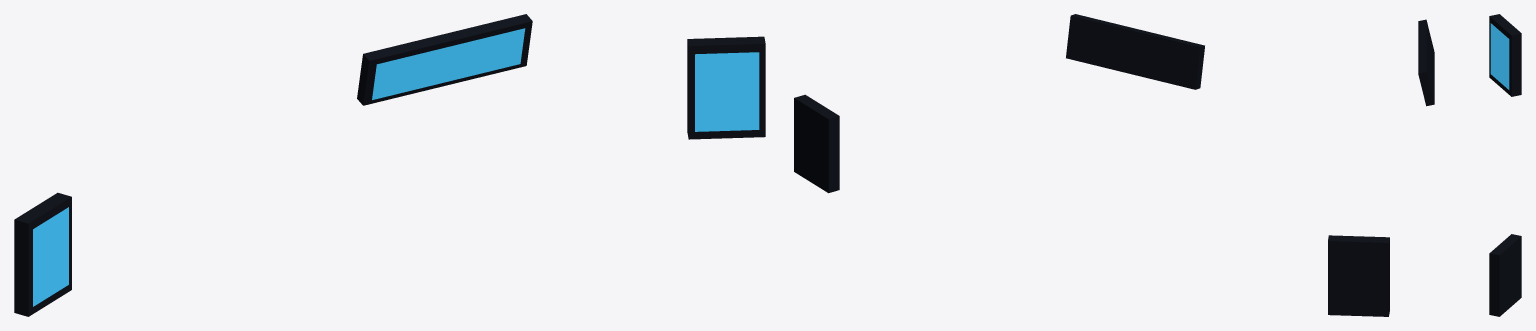
File: cockpit_camera_monitors.glb
The picture shows the model from 3 angles, left to right: view 1: azimuth 30°, elevation 25°; view 2: azimuth 150°, elevation 25°; view 3: azimuth 270°, elevation 25°; orthographic projection. The views are drawn at different scales.
Visible parts, largest first — view 1: Digital_Cameras_Monitors_Assembly; view 2: Digital_Cameras_Monitors_Assembly; view 3: Digital_Cameras_Monitors_Assembly.
Part boxes in pixels (x1=…): Digital_Cameras_Monitors_Assembly: x1=14, y1=14, x2=765, y2=316; Digital_Cameras_Monitors_Assembly: x1=794, y1=14, x2=1389, y2=316; Digital_Cameras_Monitors_Assembly: x1=1418, y1=14, x2=1521, y2=316.
Bounding box in the file's own units: 1.01 × 0.2933 × 0.183.
